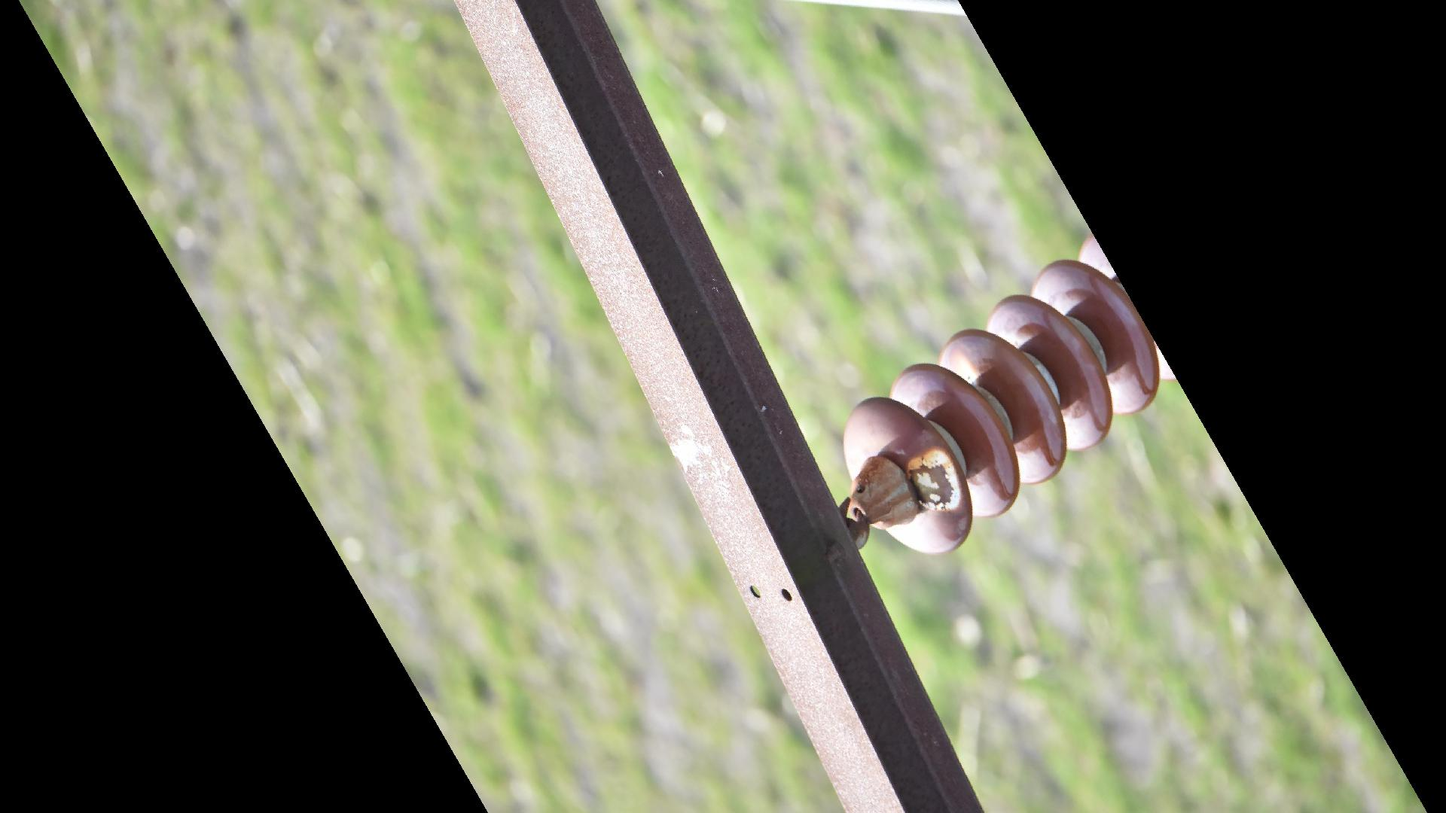insulator: (838, 232, 1178, 561)
insulator_flashover: (905, 447, 963, 516)
